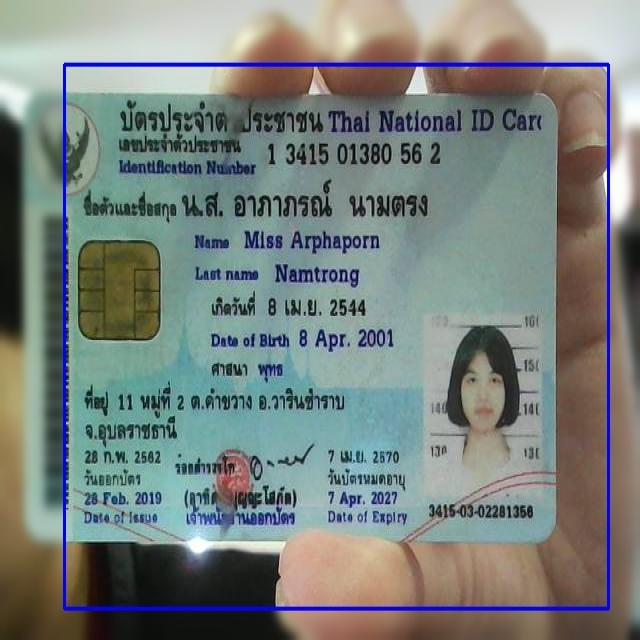Address_th: (74, 377, 355, 452)
Date_of_Birth: (296, 322, 397, 358)
Date_of_Expiry: (322, 485, 402, 509)
Date_of_Issue: (80, 488, 164, 510)
First_Name: (240, 225, 386, 257)
ID_Number: (264, 136, 445, 173)
Image: (421, 313, 542, 500)
Last_Name: (272, 260, 362, 292)
Thai_Name: (180, 172, 437, 230)
